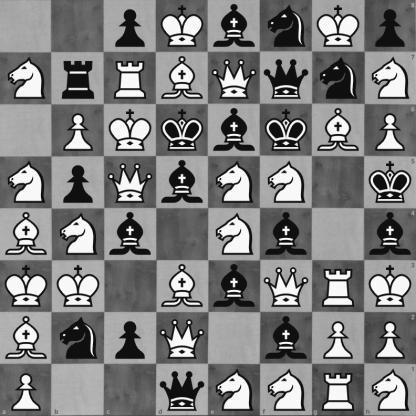B: (1, 209, 52, 260), (1, 313, 52, 364), (157, 53, 208, 104), (157, 261, 208, 312), (313, 105, 364, 156)
K: (364, 260, 416, 312), (1, 261, 52, 312), (53, 261, 104, 312), (105, 105, 156, 156), (157, 1, 208, 52), (313, 1, 364, 52)
N: (260, 364, 312, 416), (364, 52, 416, 104), (364, 364, 416, 416), (209, 364, 260, 416), (1, 53, 52, 104), (1, 157, 52, 208), (53, 209, 104, 260), (209, 157, 260, 208), (209, 209, 260, 260), (261, 157, 312, 208)
P: (0, 364, 52, 416), (364, 104, 416, 156), (364, 312, 416, 364), (53, 105, 104, 156), (313, 313, 364, 364)
Q: (105, 157, 156, 208), (157, 313, 208, 364), (209, 53, 260, 104), (261, 261, 312, 312)
R: (312, 364, 364, 416), (105, 53, 156, 104), (313, 261, 364, 312)
b: (364, 209, 416, 260), (105, 209, 156, 260), (157, 157, 208, 208), (209, 1, 260, 52), (209, 105, 260, 156), (209, 261, 260, 312), (261, 209, 312, 260), (261, 313, 312, 364)
board: (0, 0, 415, 415)
k: (364, 156, 416, 209), (157, 105, 208, 156), (261, 105, 312, 156)
n: (53, 313, 104, 364), (261, 1, 312, 52), (313, 53, 364, 104)
p: (364, 0, 416, 52), (53, 157, 104, 208), (105, 1, 156, 52), (105, 313, 156, 364)
q: (156, 364, 209, 416), (261, 53, 312, 104)
r: (53, 53, 104, 104)
